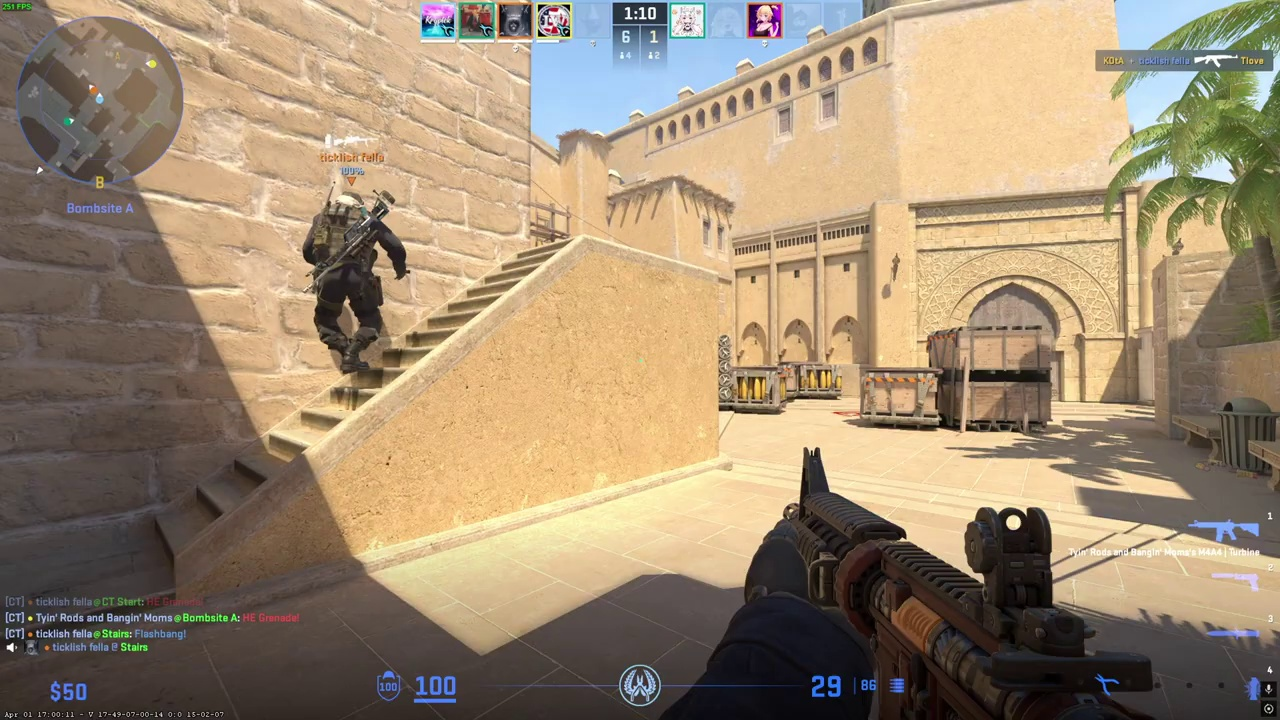CT: (308, 192, 392, 380)
